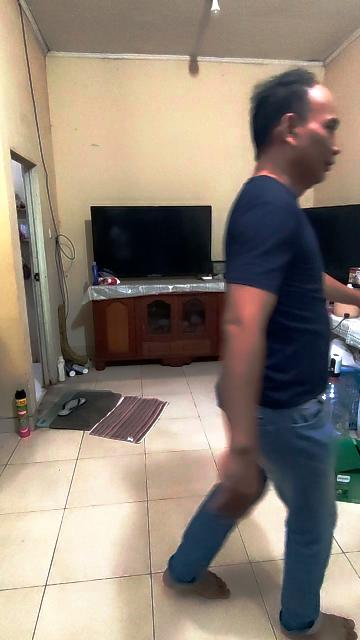berjalan: (162, 61, 360, 640)
